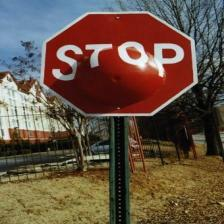Stop: (41, 10, 197, 114)
